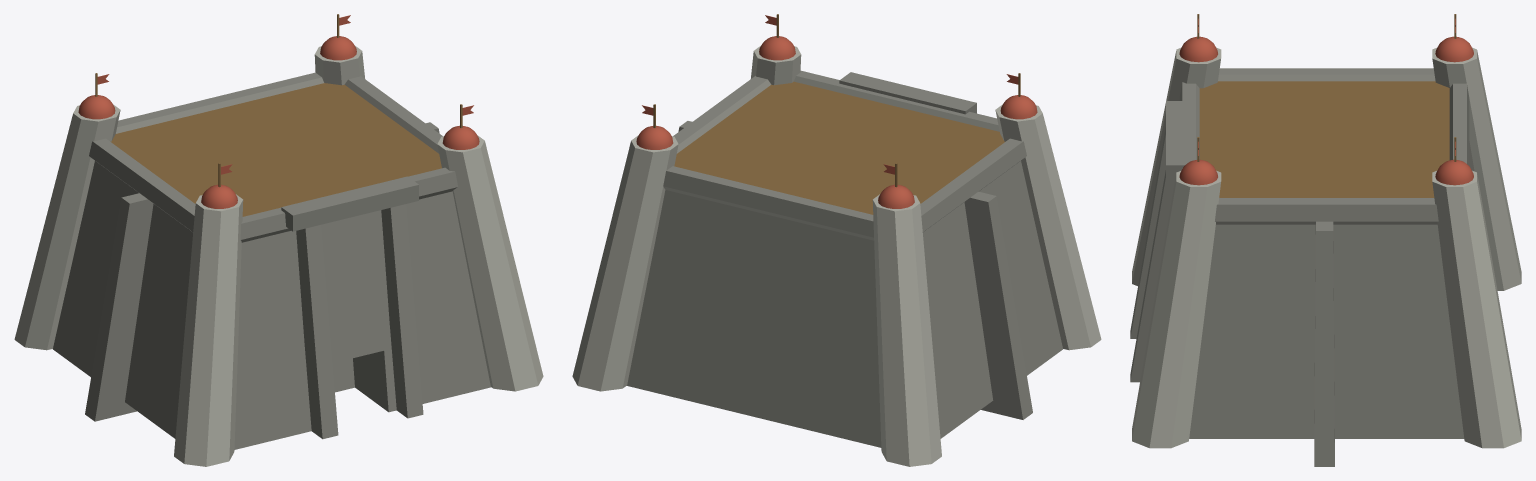
Rendered from Fortress.glb.
3 views of the same model, side by side, from view 1: azimuth 30°, elevation 25°; view 2: azimuth 150°, elevation 25°; view 3: azimuth 270°, elevation 25° (orthographic). The views are drawn at different scales.
Parts seen in each view (by area): view 1: Wonder_SecondAge_Level1; view 2: Wonder_SecondAge_Level1; view 3: Wonder_SecondAge_Level1.
Boxes of the visible parts, x1,y1,x2,y2 form: Wonder_SecondAge_Level1: (14, 14, 543, 466); Wonder_SecondAge_Level1: (572, 14, 1101, 466); Wonder_SecondAge_Level1: (1130, 14, 1521, 466).
Bounding box in the file's own units: 1.46 × 1.03 × 1.24.
